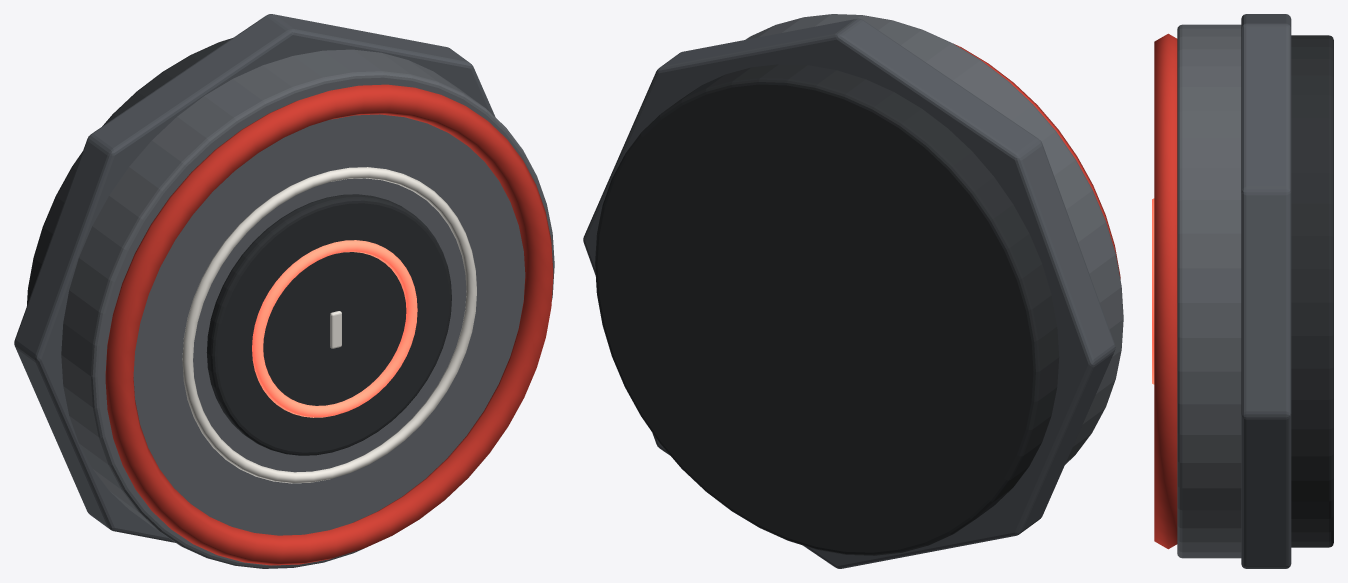
File: PunchTarget.fbx
The picture shows the model from 3 angles, left to right: view 1: azimuth 30°, elevation 25°; view 2: azimuth 150°, elevation 25°; view 3: azimuth 270°, elevation 25°; orthographic projection.
Parts seen in each view (by area): view 1: OuterPadding, Core, OuterRing, Frame, InnerRing, EmissiveAccent, RearHousing; view 2: RearHousing, Frame, OuterPadding, OuterRing; view 3: OuterPadding, Frame, RearHousing, OuterRing, EmissiveAccent.
Boxes of the visible parts, left/top/right/bottom form: OuterPadding: left=61, top=49, right=554, bottom=568; Core: left=206, top=194, right=451, bottom=455; OuterRing: left=105, top=84, right=553, bottom=565; Frame: left=14, top=14, right=495, bottom=542; InnerRing: left=182, top=167, right=476, bottom=483; EmissiveAccent: left=252, top=240, right=417, bottom=417; RearHousing: left=27, top=38, right=232, bottom=305; RearHousing: left=595, top=64, right=1059, bottom=555; Frame: left=583, top=18, right=1115, bottom=568; OuterPadding: left=745, top=14, right=1123, bottom=464; OuterRing: left=953, top=43, right=1120, bottom=279; OuterPadding: left=1177, top=24, right=1241, bottom=558; Frame: left=1241, top=14, right=1291, bottom=568; RearHousing: left=1291, top=35, right=1333, bottom=547; OuterRing: left=1154, top=33, right=1177, bottom=549; EmissiveAccent: left=1152, top=198, right=1154, bottom=384.
Size of the model in its own units: 165 by 165 by 51.06.
